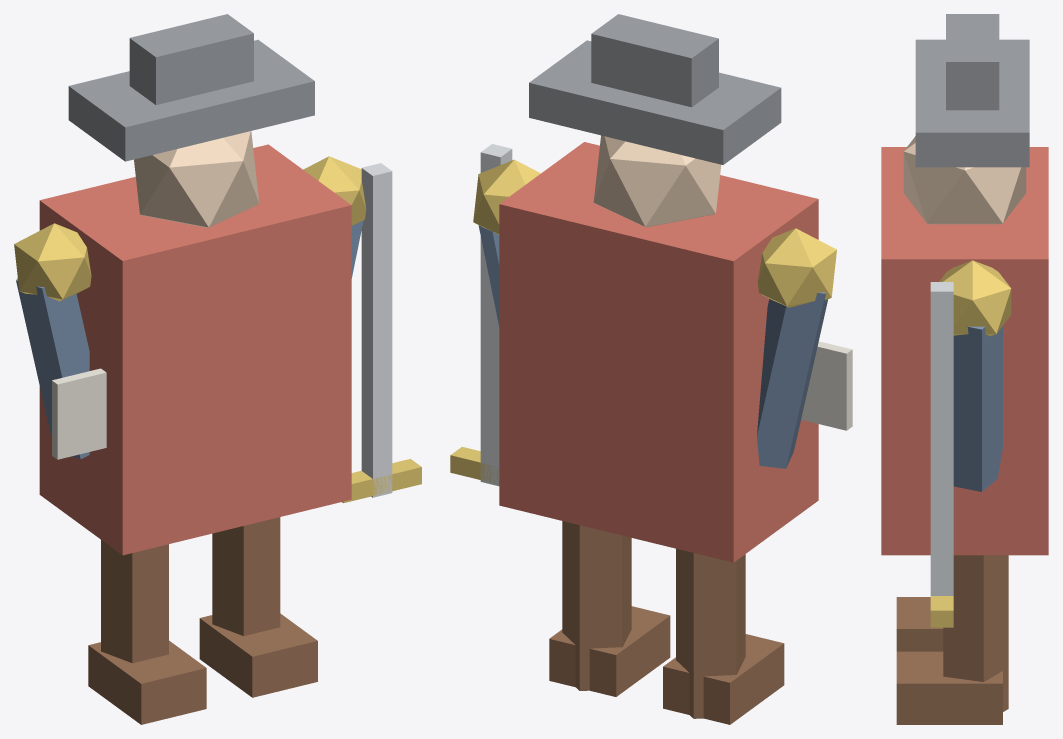
File: npc_captain.glb
3 renders of one model, left to right at view 1: azimuth 30°, elevation 25°; view 2: azimuth 150°, elevation 25°; view 3: azimuth 270°, elevation 25°, orthographic. The views are drawn at different scales.
Parts seen in each view (by area): view 1: coat.001, hat.003, sword, head.006, hat_up, leg_0.007, leg_1.007, boot_1.006, boot_0.006, arm_0.006, epaulet_0, map (+2 smaller); view 2: coat.001, hat.003, hat_up, leg_0.007, leg_1.007, head.006, arm_0.006, boot_1.006, boot_0.006, epaulet_0, sword, map (+3 smaller); view 3: coat.001, hat.003, arm_1.006, leg_1.007, sword, head.006, boot_1.006, hat_up, epaulet_1, boot_0.006, guard.001.
Part boxes in pixels (x1,y1,x2,y2): coat.001: [39, 144, 351, 555]; hat.003: [68, 39, 314, 161]; sword: [361, 163, 392, 497]; head.006: [134, 131, 259, 227]; hat_up: [129, 14, 253, 104]; leg_0.007: [101, 540, 168, 663]; leg_1.007: [212, 517, 280, 636]; boot_1.006: [199, 613, 317, 697]; boot_0.006: [88, 640, 206, 724]; arm_0.006: [16, 278, 89, 459]; epaulet_0: [14, 223, 91, 301]; map: [52, 368, 106, 459]; coat.001: [499, 142, 818, 562]; hat.003: [529, 40, 781, 164]; hat_up: [591, 14, 718, 107]; leg_0.007: [676, 548, 745, 718]; leg_1.007: [562, 521, 631, 690]; head.006: [593, 135, 721, 227]; arm_0.006: [757, 292, 827, 468]; boot_1.006: [549, 606, 670, 696]; boot_0.006: [663, 634, 784, 724]; epaulet_0: [757, 228, 836, 307]; sword: [480, 144, 512, 486]; map: [801, 341, 852, 430]; coat.001: [881, 147, 1048, 555]; hat.003: [915, 39, 1029, 167]; arm_1.006: [953, 326, 1002, 491]; leg_1.007: [943, 555, 1008, 711]; sword: [930, 282, 953, 595]; head.006: [903, 136, 1026, 224]; boot_1.006: [896, 651, 1002, 724]; hat_up: [946, 14, 999, 110]; epaulet_1: [939, 260, 1011, 336]; boot_0.006: [896, 597, 943, 651]; guard.001: [930, 596, 953, 627].
Size of the model in its own units: 1.17 by 1.87 by 0.44.
